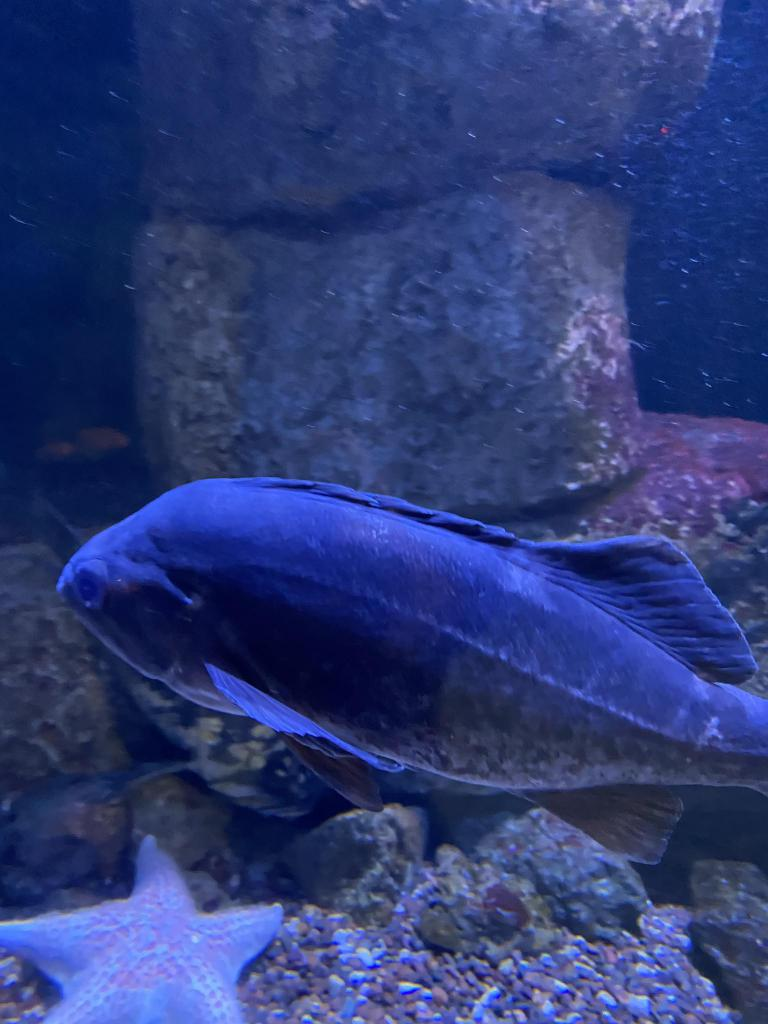fish: (59, 472, 767, 866)
starfish: (0, 837, 285, 1024)
